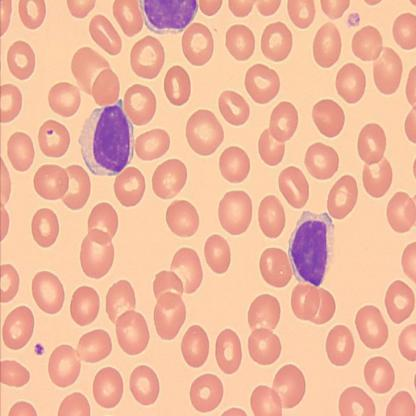Lymphocyte: (80, 93, 136, 180), (286, 209, 337, 288), (109, 125, 110, 125)
